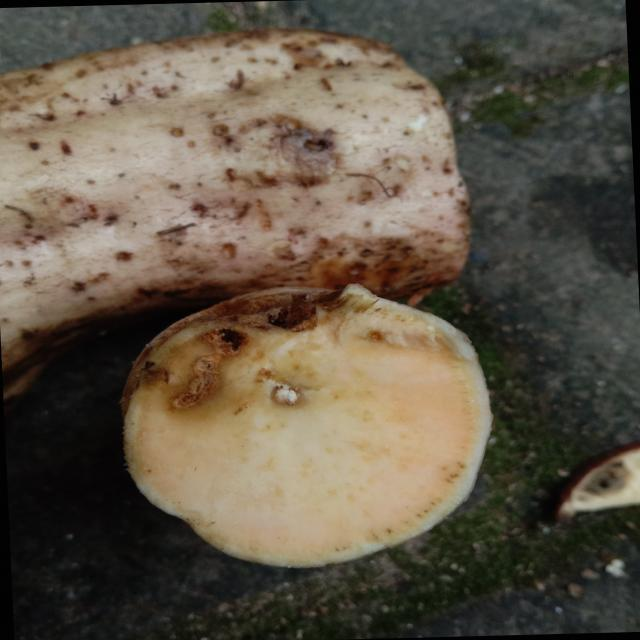Sick Sweet Potato_Tuber Rot: (122, 285, 492, 568)
